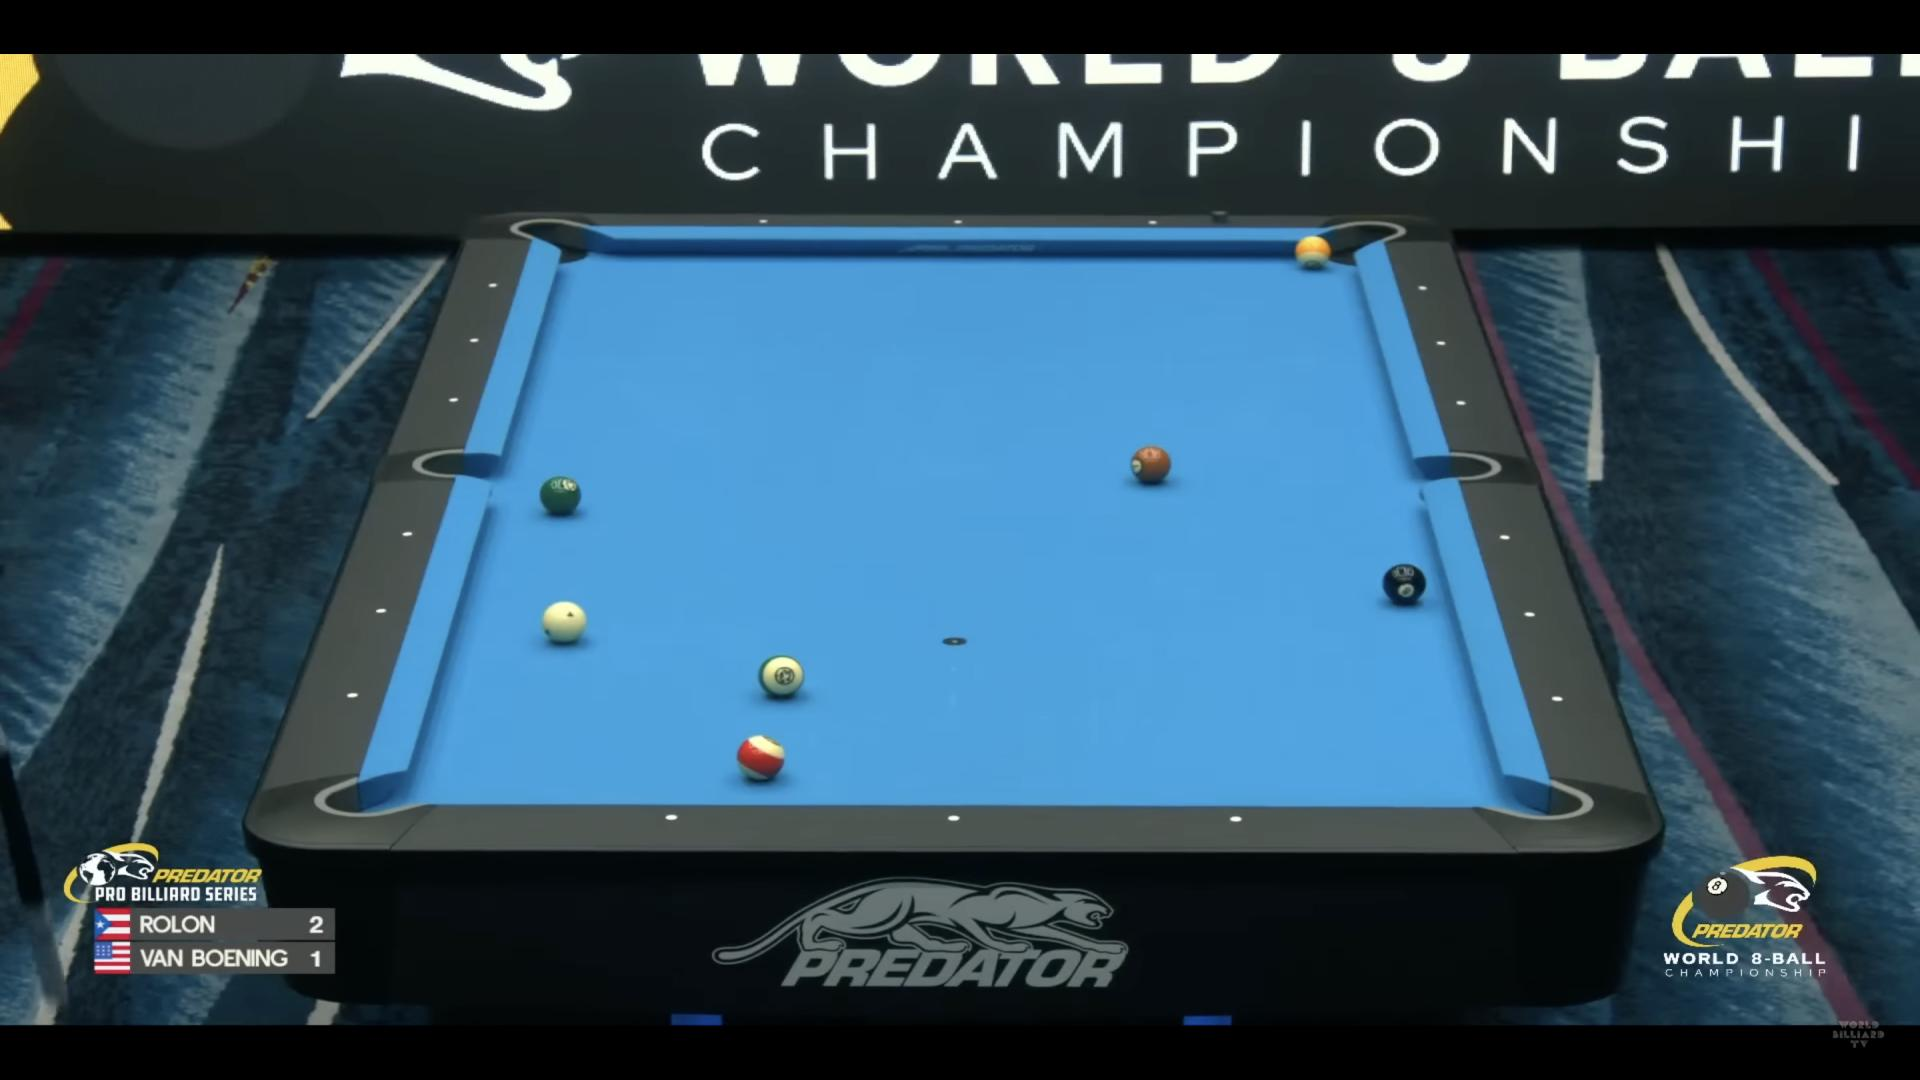Black: (1382, 564, 1427, 603)
Cue: (542, 601, 588, 642)
Dot: (343, 688, 363, 705), (372, 603, 392, 620), (398, 525, 418, 542), (1548, 691, 1567, 708), (1519, 608, 1538, 624), (1497, 530, 1514, 546), (665, 811, 679, 825), (945, 814, 961, 827), (1229, 812, 1244, 825), (756, 215, 770, 227), (1435, 338, 1448, 349), (1416, 284, 1429, 295), (952, 216, 965, 228), (1146, 218, 1159, 229), (1455, 398, 1468, 409), (468, 335, 480, 345), (448, 396, 459, 405), (487, 281, 497, 290)
Solid: (539, 476, 582, 513), (1131, 446, 1171, 484)
Striped: (737, 735, 786, 781), (757, 654, 803, 696), (1295, 236, 1332, 269)
